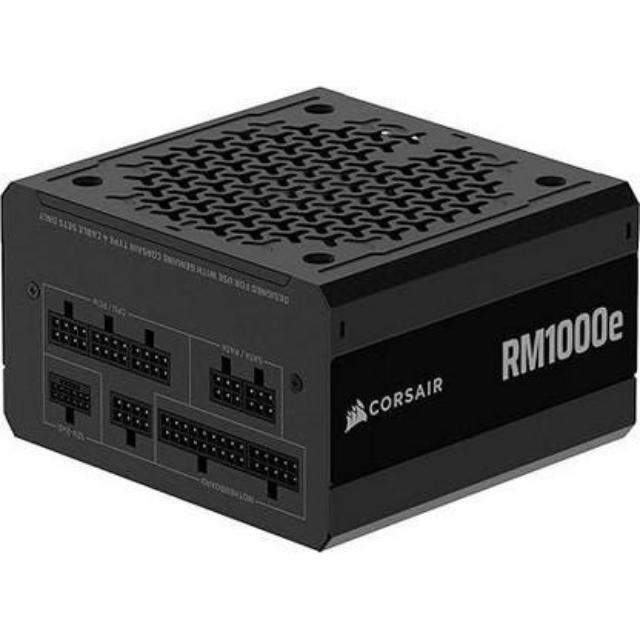PSU: (0, 76, 640, 554)
